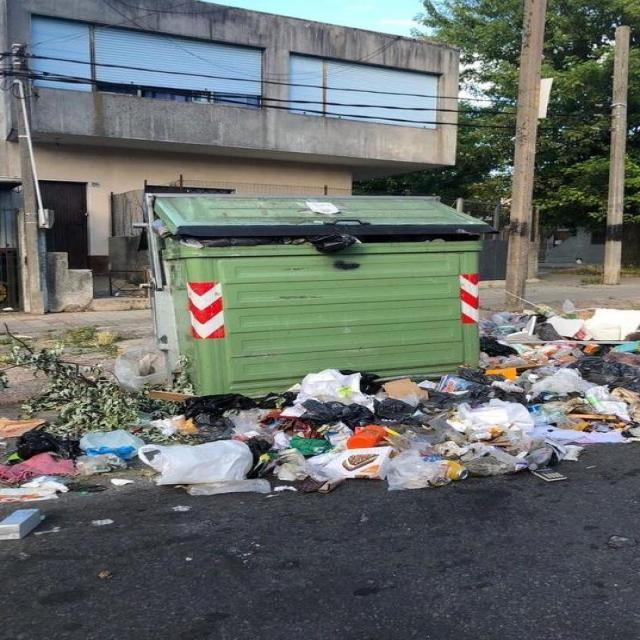high trash: (0, 308, 640, 502)
less trash: (0, 509, 44, 539)
